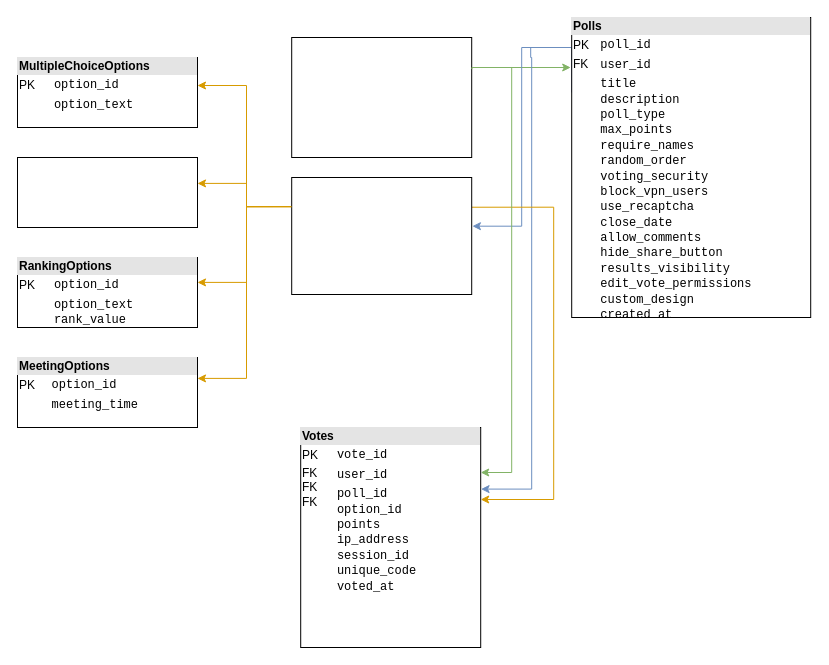
The diagram is 829 pixels wide and 665 high, and some of its shapes have lost their labels. Each missing label, with the centre of its shape:
"ImageOptions PK option_id option_image_url" belongs at pixel 107 192.
"Options PK option_id FK poll_id option_type" belongs at pixel 381 235.
"Users PK user_id username email password_hash password_salt created_at" belongs at pixel 381 97.
